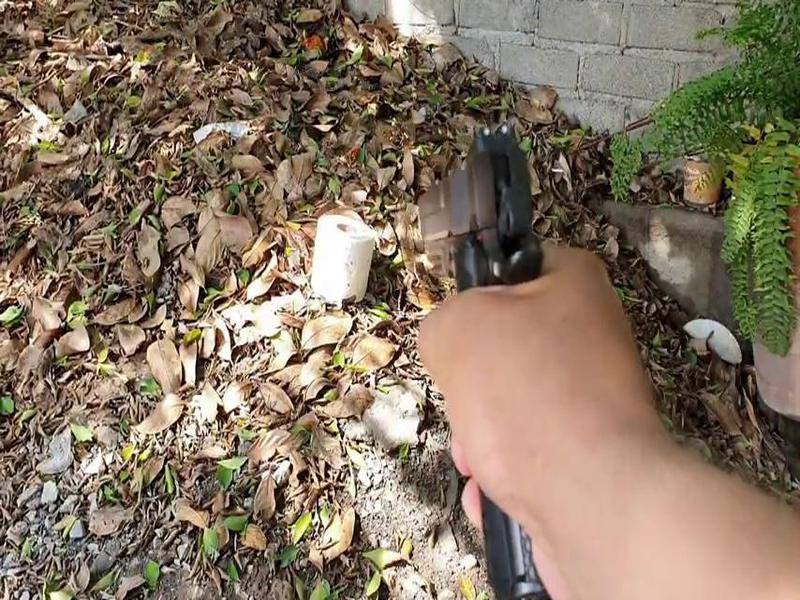Pistola: (356, 118, 586, 599)
